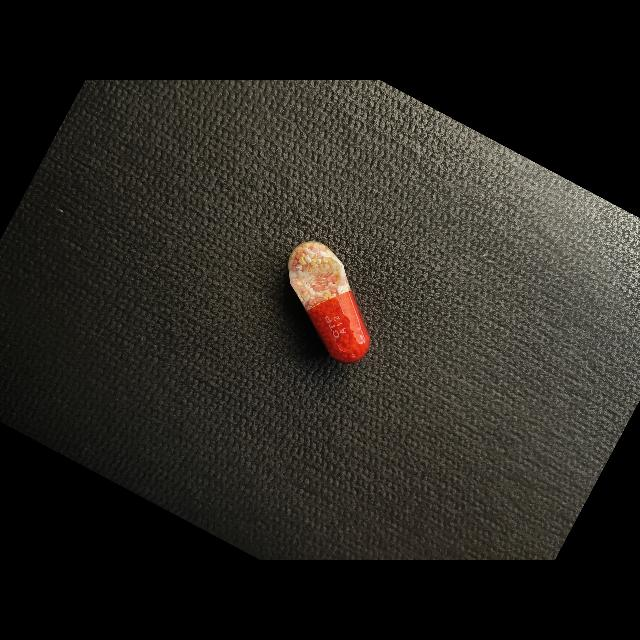Defective Capsule: (288, 241, 370, 363)
